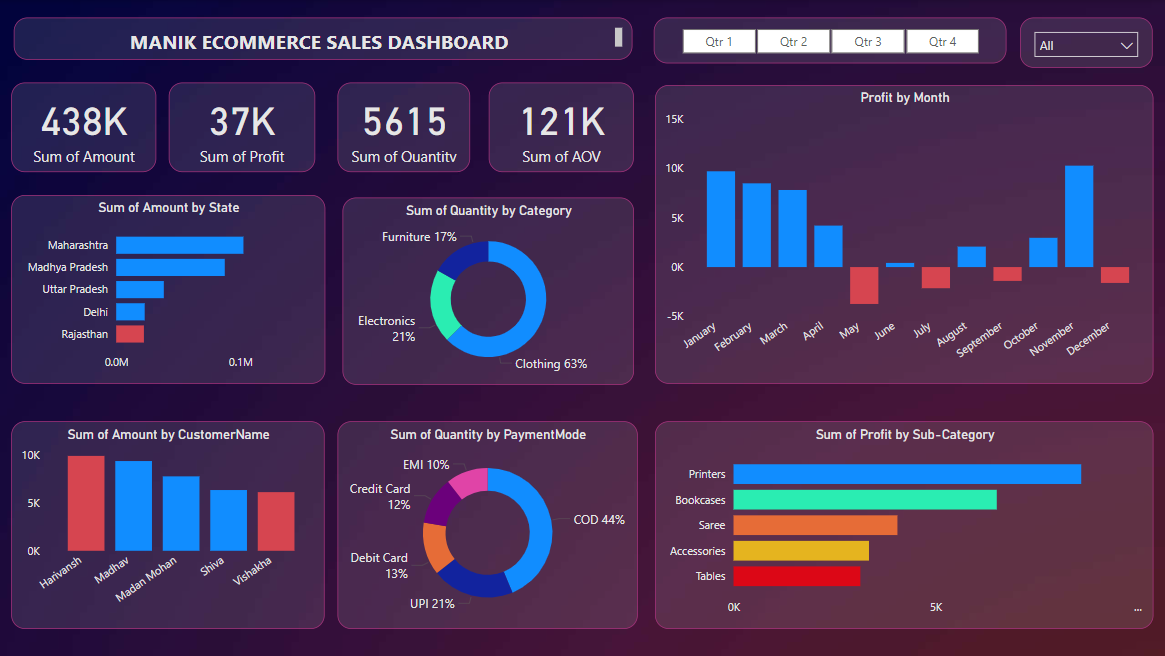

The dashboard page shown, as its layout file describes it:
{"tool":"powerbi","page":{"name":"Page 1","canvas":[1280,720],"ordinal":0},"visuals":[{"type":"textbox","box":[15.1,19.5,679.2,46.7],"z":0},{"type":"columnChart","title":"Profit by Month","fields":{"Category":["Orders.Order Date.Variation.Date Hierarchy.Month"],"Y":["Details.Profit"]},"box":[719.1,93.7,547.5,328],"z":1000},{"type":"barChart","fields":{"Category":["Details.Sub-Category"],"Y":["Details.Profit"]},"box":[719.1,462.8,547.5,227.8],"z":2000},{"type":"donutChart","fields":{"Category":["Details.Category"],"Y":["Details.Quantity"]},"box":[376,217.2,319.7,205.8],"z":3000},{"type":"donutChart","fields":{"Y":["Details.Quantity"],"Category":["Details.PaymentMode"]},"box":[370.5,462.8,329.3,227.8],"z":4000},{"type":"card","fields":{"Values":["Details.Amount"]},"box":[12.4,91,159.2,98.8],"z":5000},{"type":"card","fields":{"Values":["Details.Profit"]},"box":[185.3,91,160.5,98.8],"z":6000},{"type":"card","fields":{"Values":["Details.Quantity"]},"box":[370.5,91,145.5,98.8],"z":7000},{"type":"card","fields":{"Values":["Details.AOV"]},"box":[536.6,91,159.2,98.8],"z":8000},{"type":"barChart","fields":{"Category":["Orders.State"],"Y":["Details.Amount"]},"box":[12.4,214.5,344.4,207.2],"z":9000},{"type":"columnChart","fields":{"Category":["Orders.CustomerName"],"Y":["Details.Amount"]},"box":[12.4,462.7,344,228],"z":10000},{"type":"slicer","fields":{"Values":["Orders.Order Date.Variation.Date Hierarchy.Quarter"]},"box":[717.7,19.5,387,50.8],"z":11000},{"type":"slicer","fields":{"Values":["Orders.State"]},"box":[1119.7,19.5,145.5,54.9],"z":11001}]}

Visuals, with their boxes in screenshot pixels (x1, y1, x2, y2), scaled from the page's 1280x720 canvas onto the 1165x656 screenshot:
textbox: l=14, t=18, r=632, b=60
"Profit by Month" columnChart: l=654, t=85, r=1153, b=384
barChart - Details.Sub-Category x Details.Profit: l=654, t=422, r=1153, b=629
donutChart - Details.Category x Details.Quantity: l=342, t=198, r=633, b=385
donutChart - Details.Quantity x Details.PaymentMode: l=337, t=422, r=637, b=629
card - Details.Amount: l=11, t=83, r=156, b=173
card - Details.Profit: l=169, t=83, r=315, b=173
card - Details.Quantity: l=337, t=83, r=470, b=173
card - Details.AOV: l=488, t=83, r=633, b=173
barChart - Orders.State x Details.Amount: l=11, t=195, r=325, b=384
columnChart - Orders.CustomerName x Details.Amount: l=11, t=422, r=324, b=629
slicer - Orders.Order Date.Variation.Date Hierarchy.Quarter: l=653, t=18, r=1005, b=64
slicer - Orders.State: l=1019, t=18, r=1152, b=68
